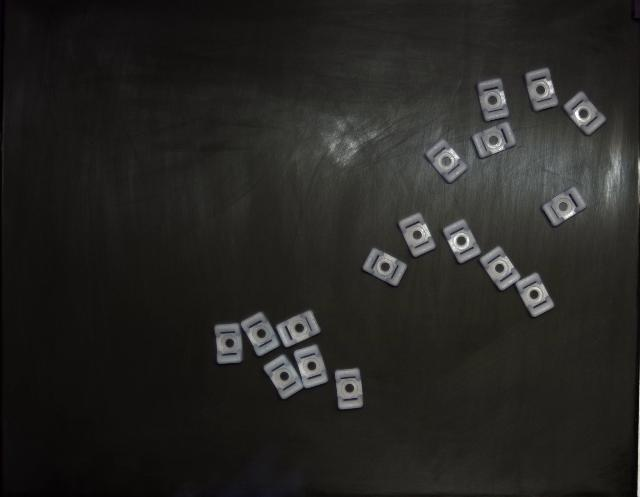first_side: (264, 345, 329, 400), (562, 91, 606, 135), (425, 140, 468, 184), (480, 246, 520, 291), (515, 272, 554, 318), (240, 312, 280, 356), (541, 188, 586, 226), (276, 310, 321, 348), (442, 220, 480, 264), (399, 212, 435, 258), (362, 249, 406, 286), (472, 122, 516, 158), (294, 345, 329, 389), (525, 68, 558, 111), (478, 79, 509, 121), (335, 369, 364, 410), (214, 324, 242, 365)
